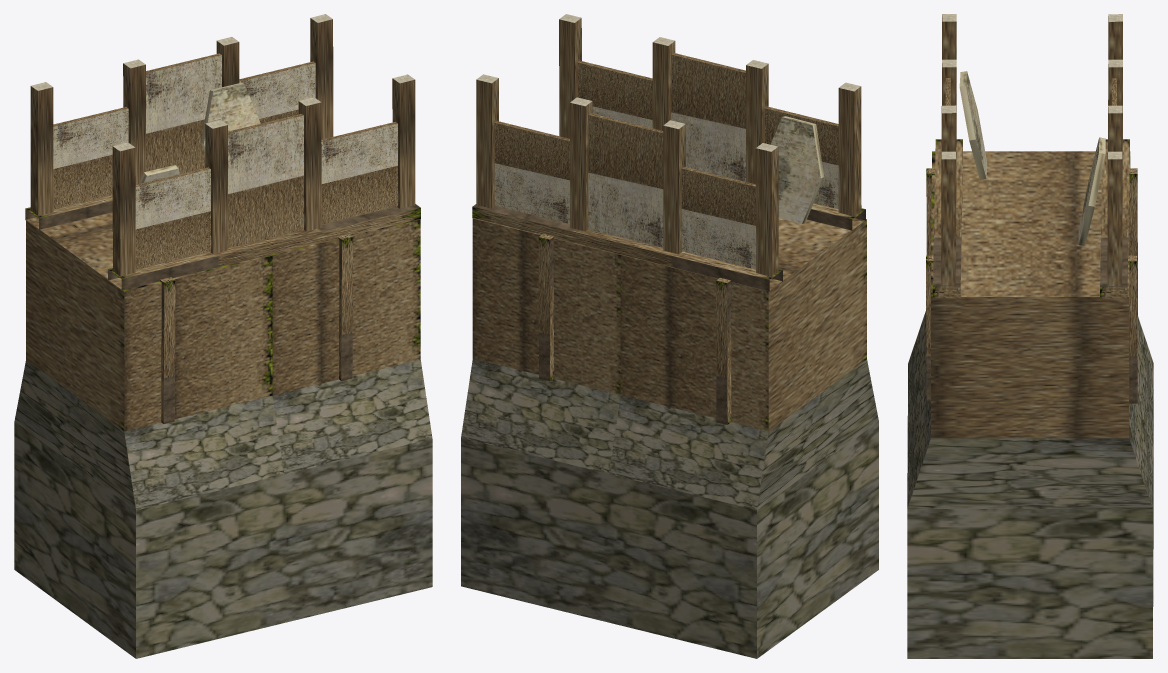
Rendered from wall_sho.dae.
The picture shows the model from 3 angles, left to right: view 1: azimuth 30°, elevation 25°; view 2: azimuth 150°, elevation 25°; view 3: azimuth 270°, elevation 25°; orthographic projection.
Parts seen in each view (by area): view 1: wall_sho; view 2: wall_sho; view 3: wall_sho.
Boxes of the visible parts, x1,y1,x2,y2 form: wall_sho: (14,14,432,658); wall_sho: (461,14,878,658); wall_sho: (907,14,1153,658).
Bounding box in the file's own units: 12.4 × 8.8 × 19.67.
